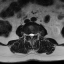CCS_normal: (30, 32, 32, 40)
LFS_stenosis: (34, 32, 36, 38)
LLS_normal: (32, 32, 34, 37)
RFS_stenosis: (27, 32, 28, 37)
RLS_normal: (28, 32, 30, 37)
